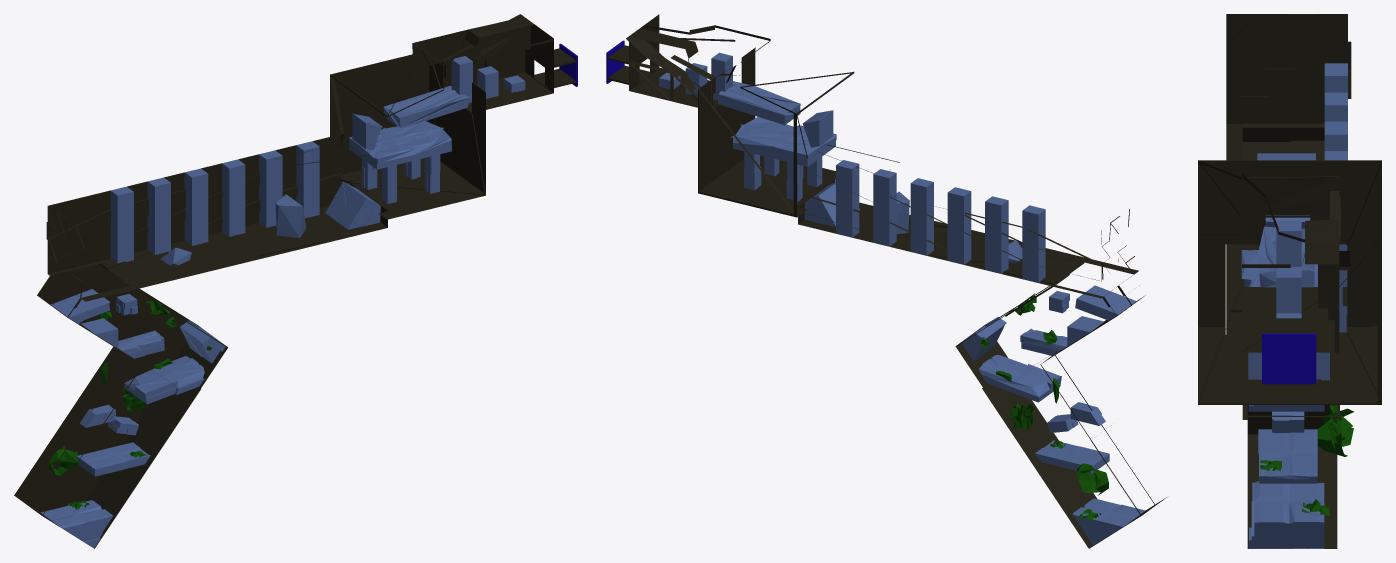
Rendered from dusk_5.obj.
3 views of the same model, side by side, from view 1: azimuth 30°, elevation 25°; view 2: azimuth 150°, elevation 25°; view 3: azimuth 270°, elevation 25° (orthographic). The views are drawn at different scales.
Parts seen in each view (by area): view 1: Cube.003_Cube.011, Cube.002_Cube.010, Cube_Cube.007, Cube.005_Cube.013, Cube.004_Cube.012, Cube.011_Cube.005, Cube.028, Cube.009_Cube.003, Cube.032_Cube.033, Cube.021, Cube.020, Cube.023 (+11 smaller); view 2: Cube.002_Cube.010, Cube.003_Cube.011, Cube.005_Cube.013, Cube_Cube.007, Cube.011_Cube.005, Cube.028, Cube.009_Cube.003, Cube.021, Cube.020, Cube.019, Cube.017, Cube.022 (+11 smaller); view 3: Cube.002_Cube.010, Cube.003_Cube.011, Cube.005_Cube.013, Cube.032_Cube.033, Cube_Cube.007, Cube.031, Cube.004_Cube.012, Cube.036_Cube.037, Cube.009_Cube.003, Cube.007_Cube.001, Cube.006_Cube, Icosphere.001 (+15 smaller).
Boxes of the visible parts, bbox=[...] form: Cube.003_Cube.011: bbox=[46, 134, 387, 301]; Cube.002_Cube.010: bbox=[330, 54, 485, 219]; Cube_Cube.007: bbox=[14, 346, 200, 548]; Cube.005_Cube.013: bbox=[412, 14, 553, 112]; Cube.004_Cube.012: bbox=[37, 264, 227, 397]; Cube.011_Cube.005: bbox=[349, 121, 451, 169]; Cube.028: bbox=[124, 356, 204, 404]; Cube.009_Cube.003: bbox=[383, 85, 470, 128]; Cube.032_Cube.033: bbox=[41, 500, 112, 548]; Cube.021: bbox=[184, 168, 208, 245]; Cube.020: bbox=[222, 159, 245, 236]; Cube.023: bbox=[110, 186, 133, 263]; Cube.002_Cube.010: bbox=[698, 47, 854, 217]; Cube.003_Cube.011: bbox=[798, 144, 1138, 298]; Cube.005_Cube.013: bbox=[626, 14, 770, 110]; Cube_Cube.007: bbox=[982, 355, 1166, 548]; Cube.011_Cube.005: bbox=[730, 117, 836, 166]; Cube.028: bbox=[979, 355, 1061, 402]; Cube.009_Cube.003: bbox=[718, 81, 800, 125]; Cube.021: bbox=[947, 187, 971, 264]; Cube.020: bbox=[910, 178, 933, 255]; Cube.019: bbox=[873, 169, 896, 246]; Cube.017: bbox=[836, 160, 859, 237]; Cube.022: bbox=[985, 196, 1008, 273]; Cube.002_Cube.010: bbox=[1198, 160, 1381, 404]; Cube.003_Cube.011: bbox=[1226, 14, 1351, 334]; Cube.005_Cube.013: bbox=[1242, 174, 1350, 352]; Cube.032_Cube.033: bbox=[1249, 481, 1324, 548]; Cube_Cube.007: bbox=[1247, 405, 1337, 548]; Cube.031: bbox=[1258, 429, 1317, 483]; Cube.004_Cube.012: bbox=[1242, 123, 1339, 419]; Cube.036_Cube.037: bbox=[1262, 333, 1316, 384]; Cube.009_Cube.003: bbox=[1257, 226, 1314, 287]; Cube.007_Cube.001: bbox=[1276, 267, 1301, 313]; Cube.006_Cube: bbox=[1276, 220, 1301, 266]; Icosphere.001: bbox=[1317, 408, 1353, 456].
Bounding box in the file's own units: 20.67 × 14.7 × 3.78.
